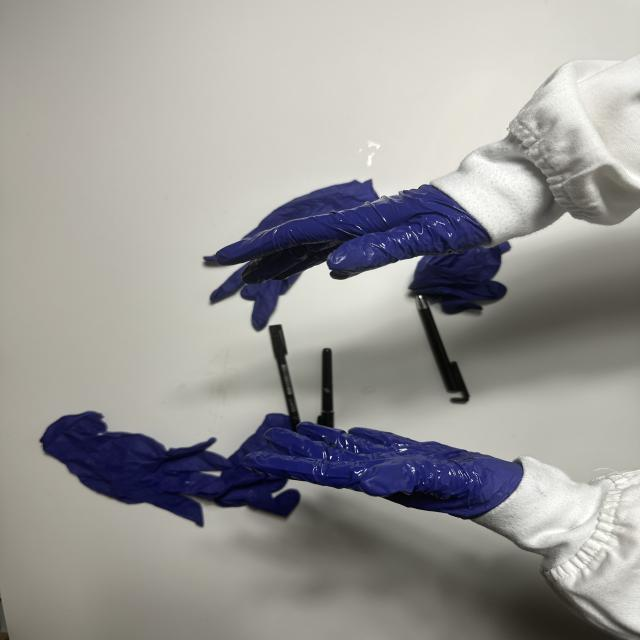gloves_contaminated: (0, 343, 446, 455), (214, 185, 492, 284), (245, 422, 523, 518)
